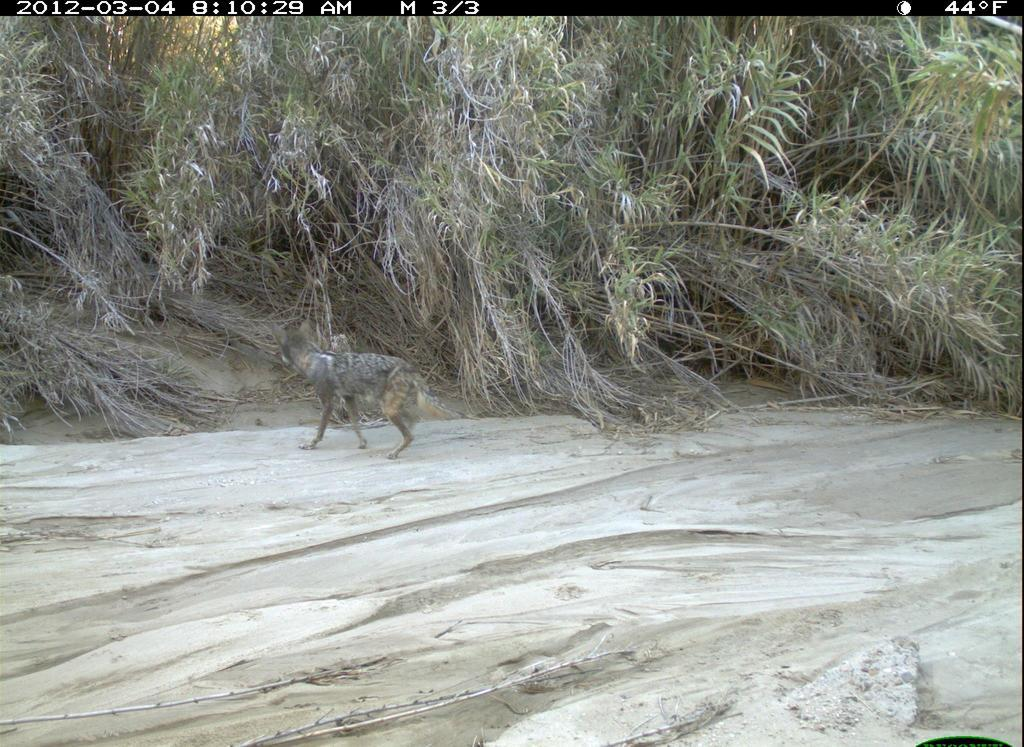coyote: (271, 320, 440, 466)
